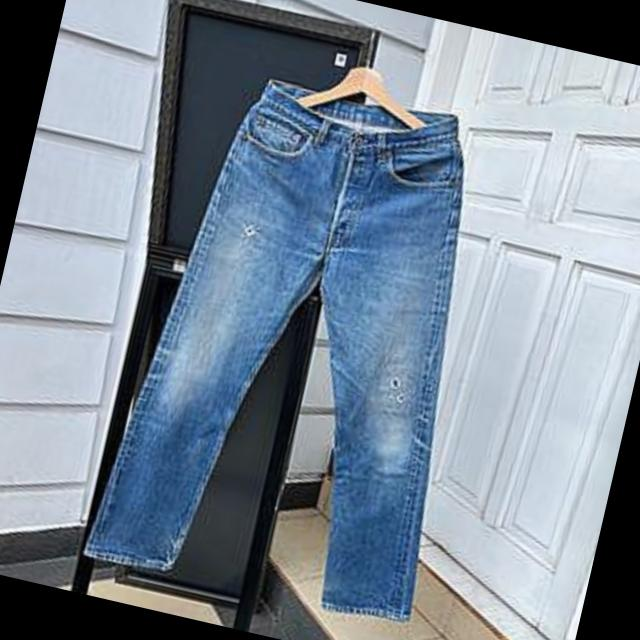TROUSER: (75, 43, 573, 640)
